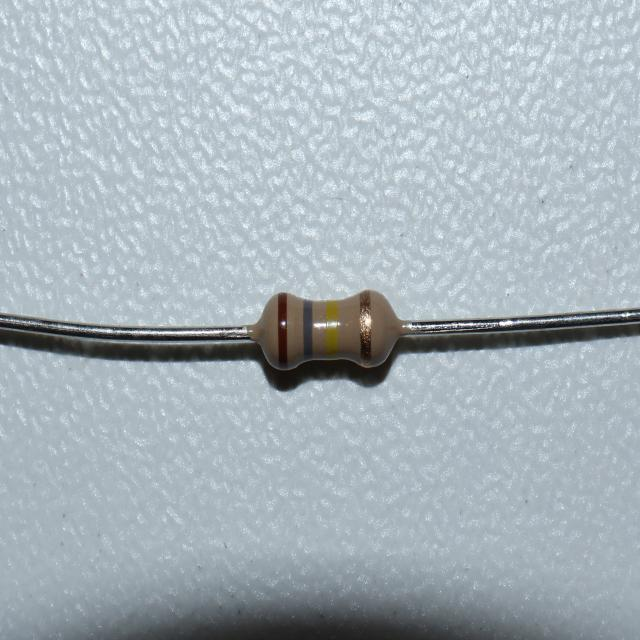resistor: (263, 289, 396, 375)
